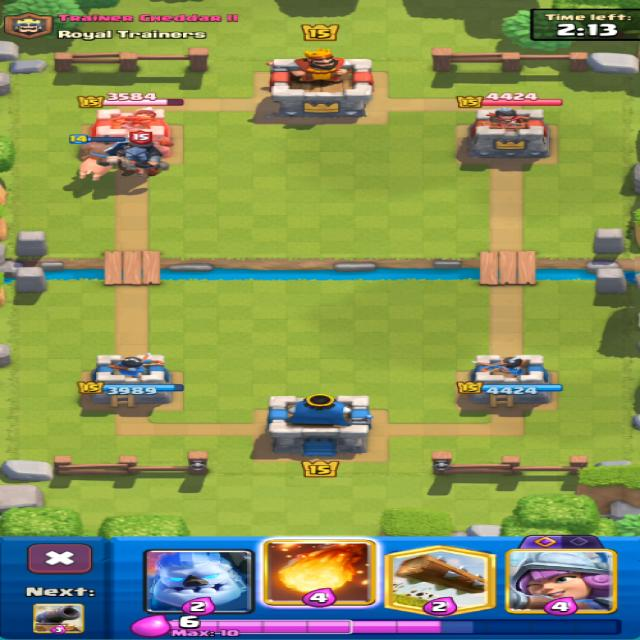Enemy-DarkPrince-Shield: (97, 130, 169, 177)
Enemy-KingTower: (269, 49, 372, 116)
Enemy-PrincessTower: (467, 107, 549, 161), (92, 107, 169, 141)
Player-HogRider: (72, 133, 116, 181)
Player-KingTower: (268, 394, 372, 456)
Player-PrincessTower: (78, 354, 183, 407), (458, 354, 550, 407)
